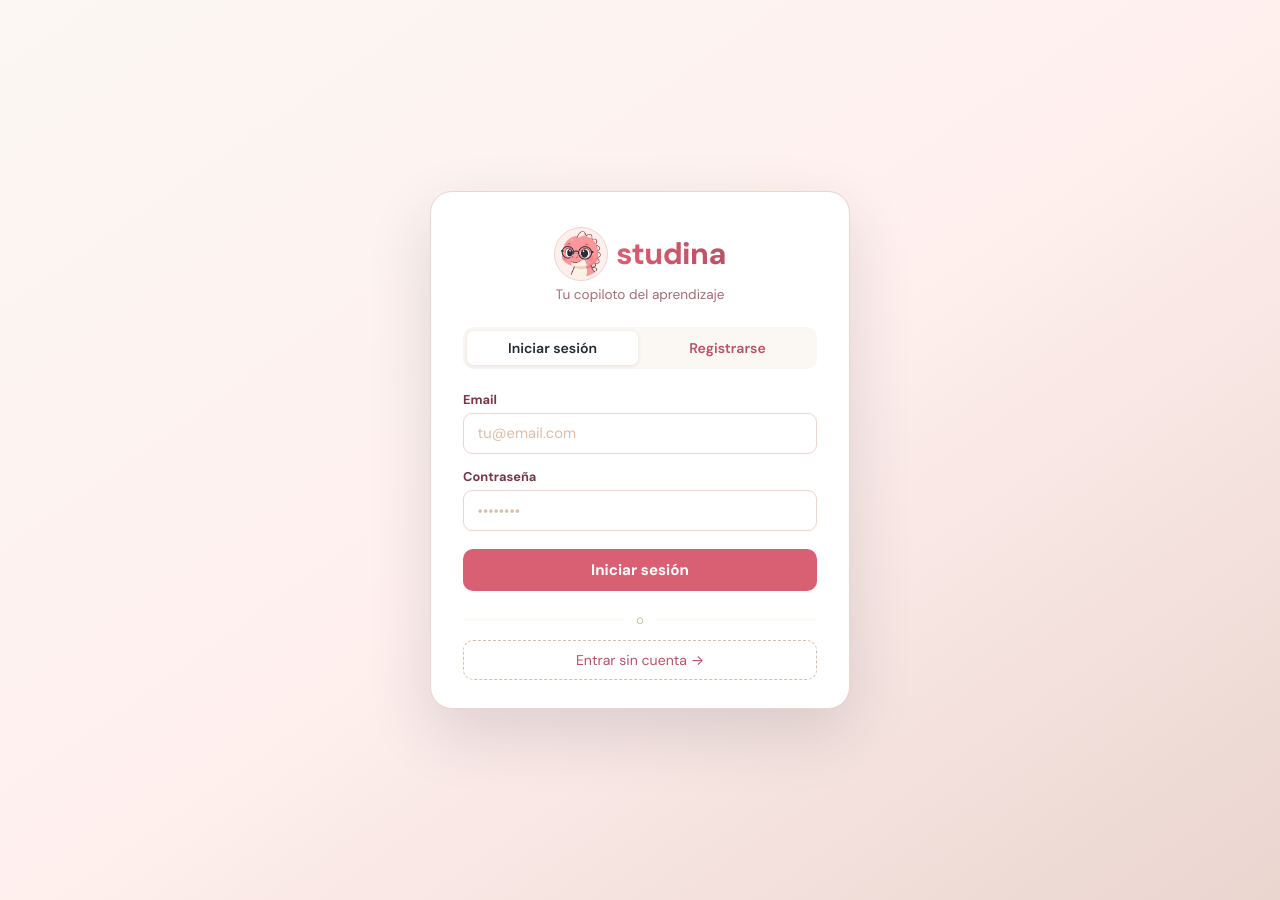
Test: App › descarta las generaciones en espera al cerrar sesión y no las envía con la cuenta siguiente
The image size is (1280, 900).
Type "usuario-a@gmail.com" into the field with placeholder "tu@email.com".
click(640, 433); type("usuario-a@gmail.com")  # box [463,413,817,454]
Type "clave-a" into the password field with placeholder "••••••••".
click(640, 511); type("clave-a")  # box [463,490,817,531]
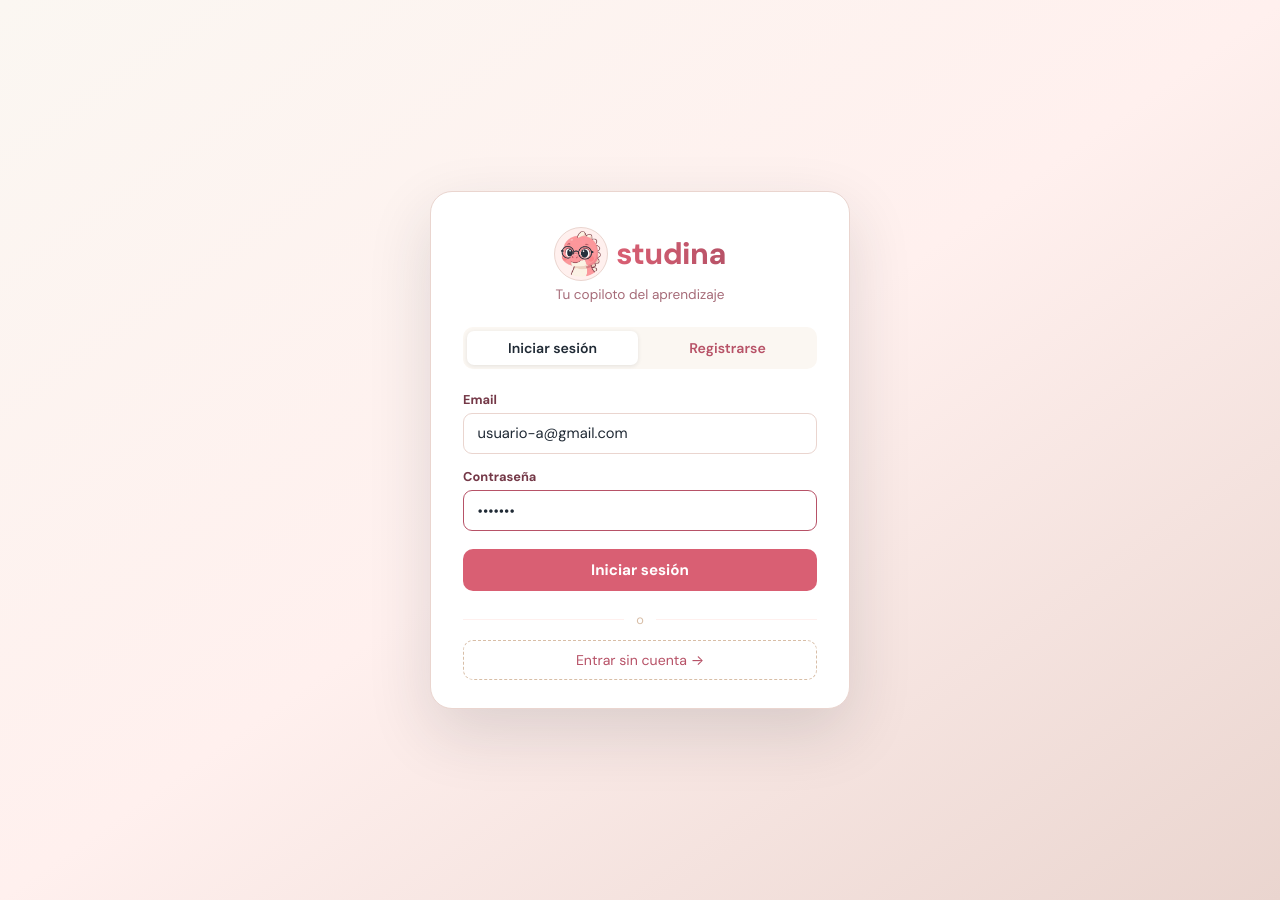
Click the button "Iniciar sesión" below "Contraseña".
click(640, 570)  # box [463,549,817,591]
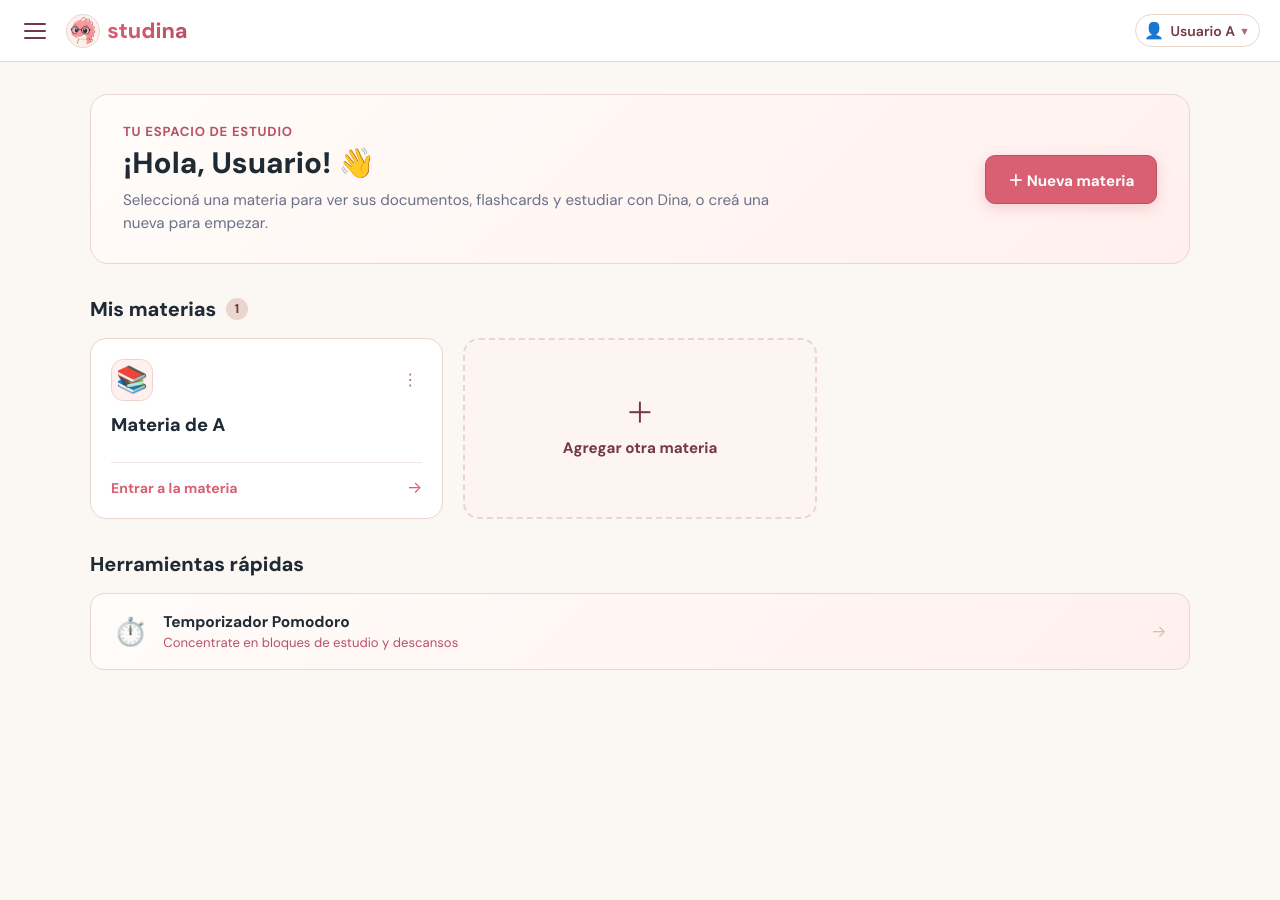
Expected: the text "Usuario A" is shown, [1170,22,1235,40]
Click the button "👤 Usuario A ▾".
click(1198, 31)  # box [1135,14,1260,47]
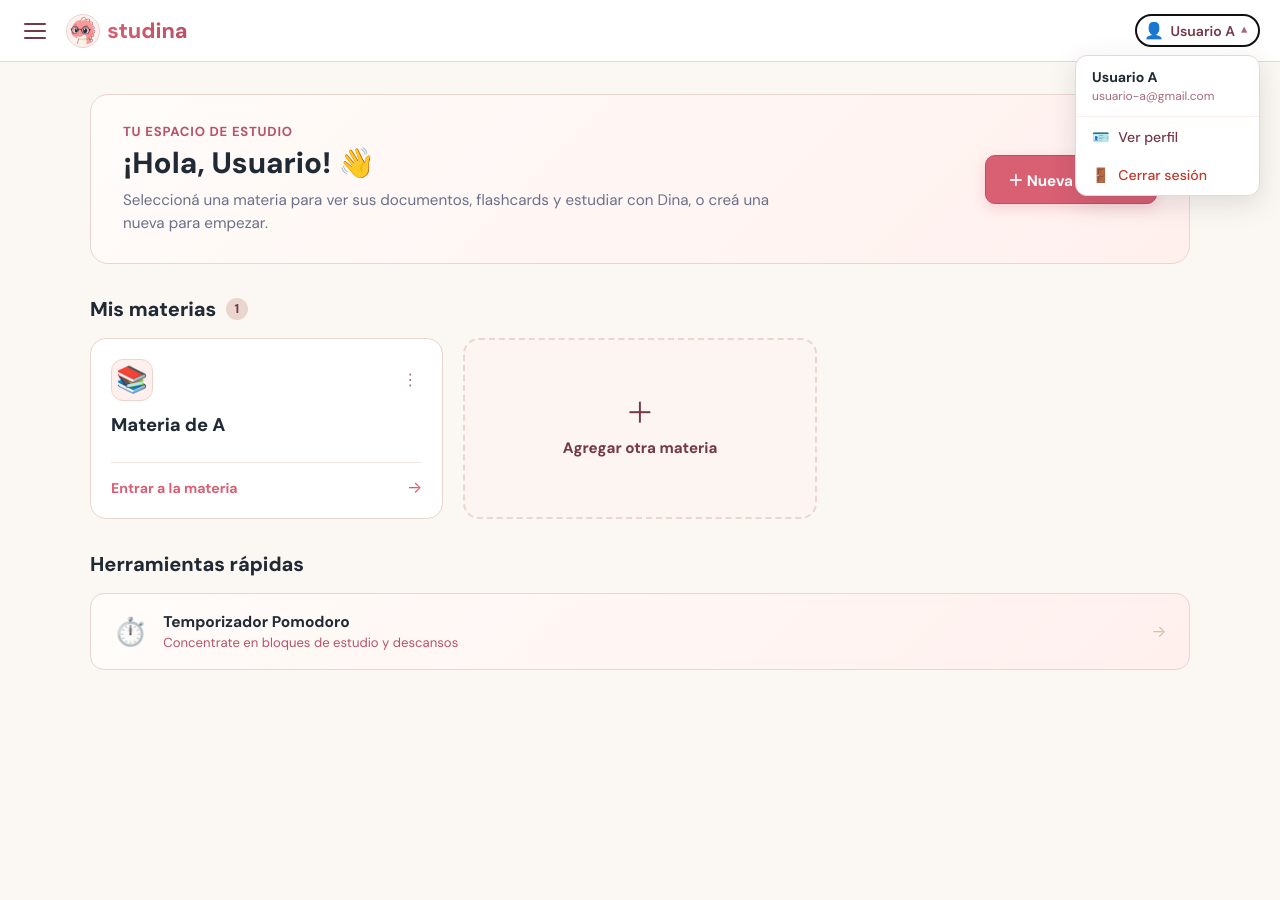
Click the button "🚪 Cerrar sesión".
click(1168, 176)  # box [1076,156,1259,195]
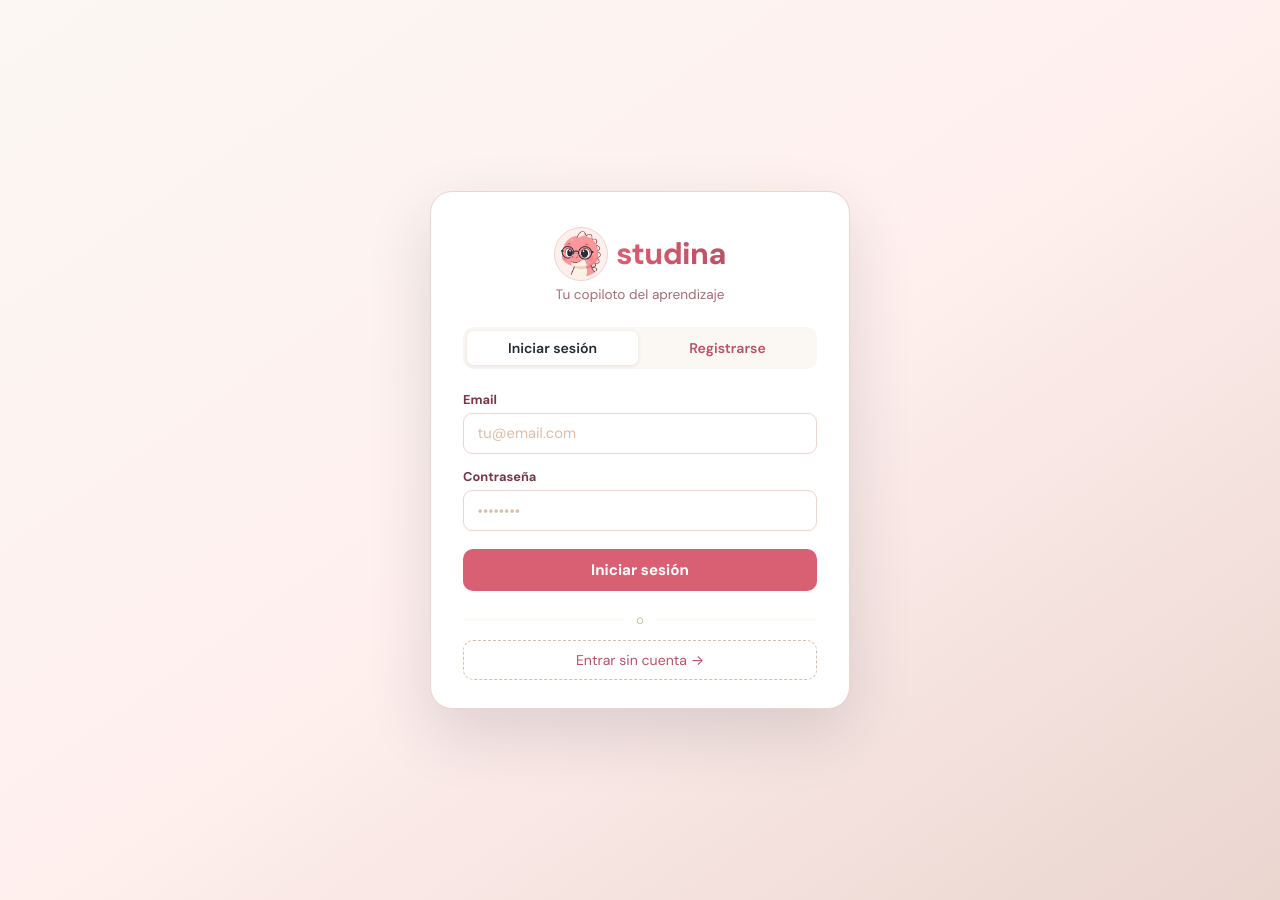
Type "usuario-b@gmail.com" into the field with placeholder "tu@email.com".
click(640, 433); type("usuario-b@gmail.com")  # box [463,413,817,454]
Type "clave-b" into the password field with placeholder "••••••••".
click(640, 511); type("clave-b")  # box [463,490,817,531]
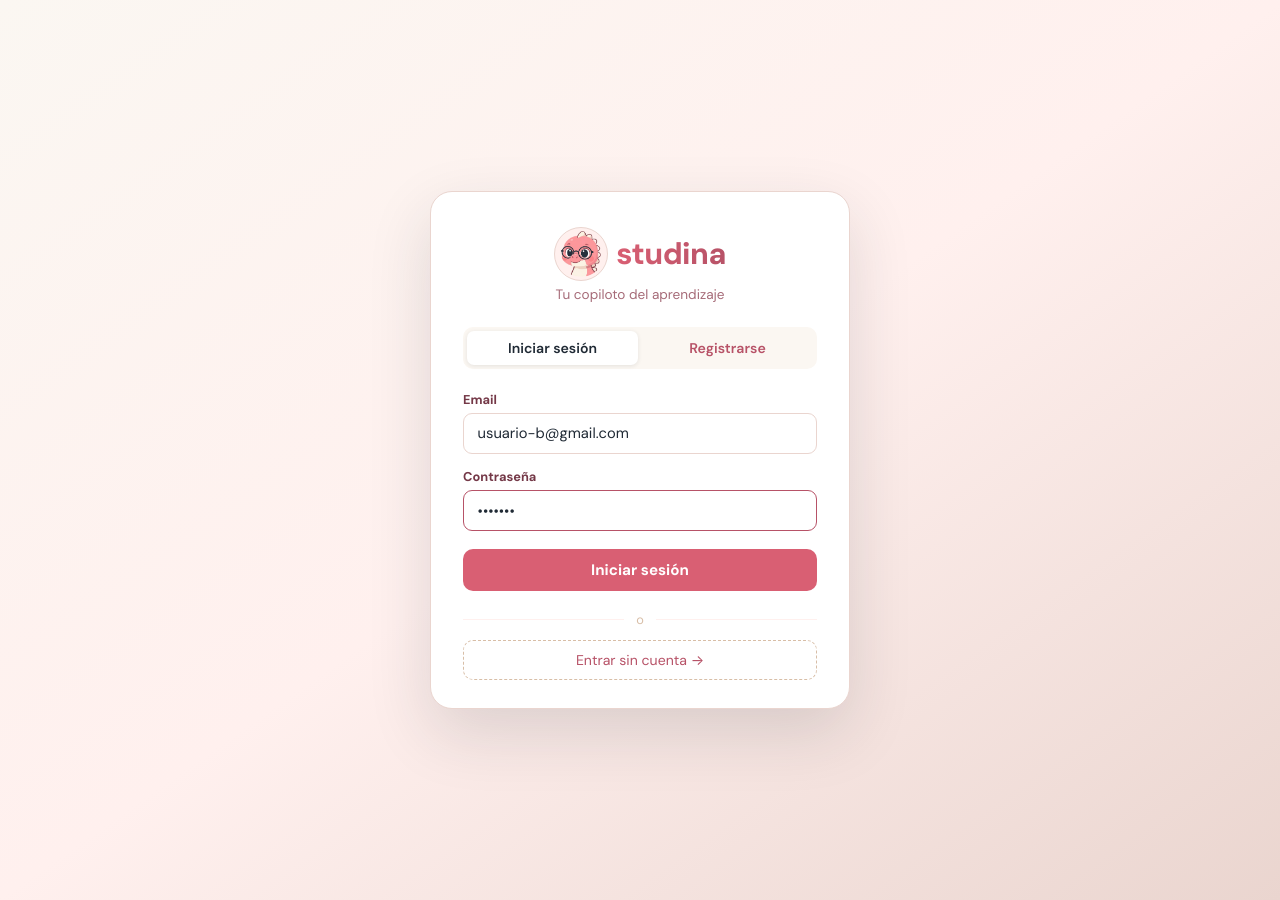
Click the button "Iniciar sesión" below "Contraseña".
click(640, 570)  # box [463,549,817,591]
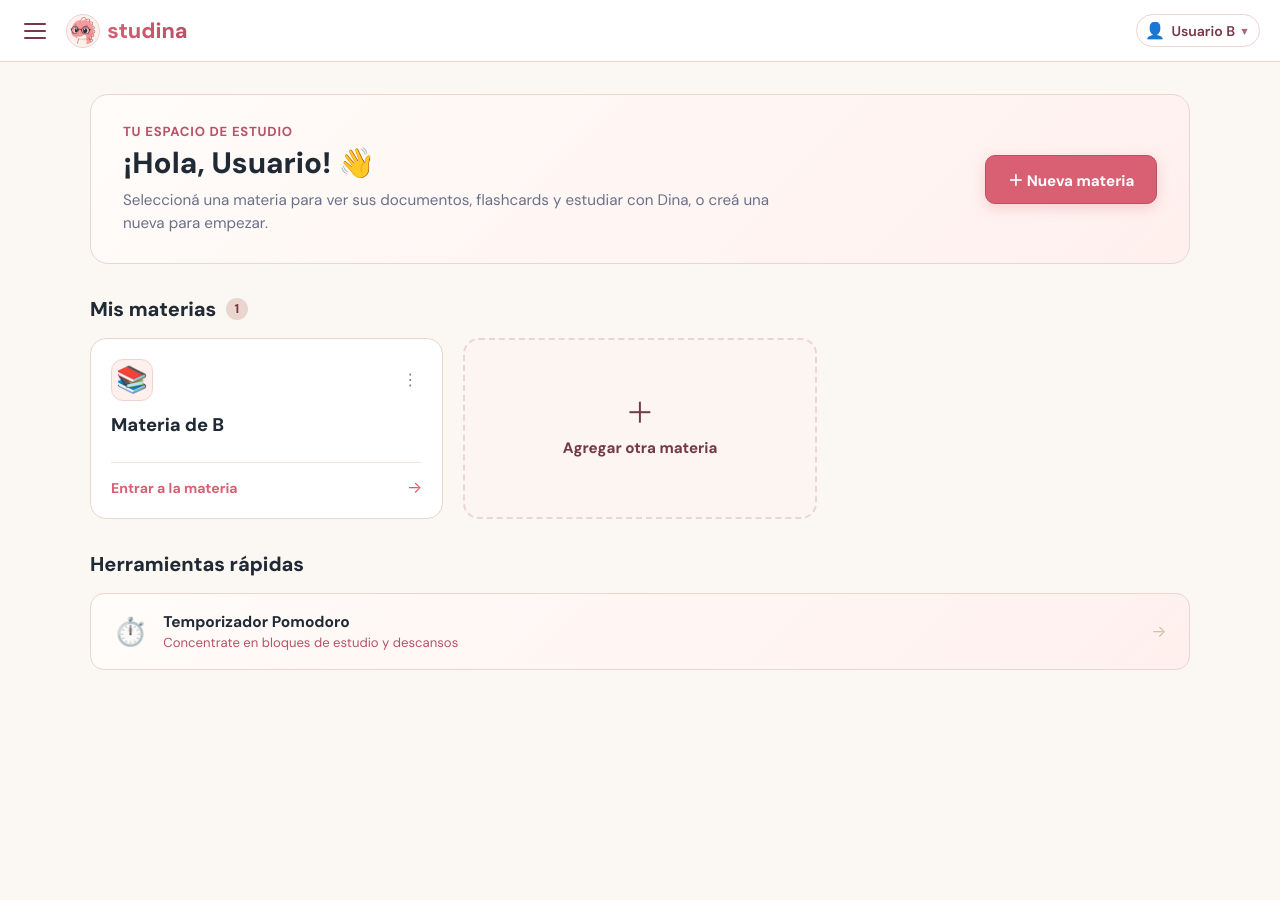
Expected: the text "Usuario B" is shown, [1171,22,1235,40]
